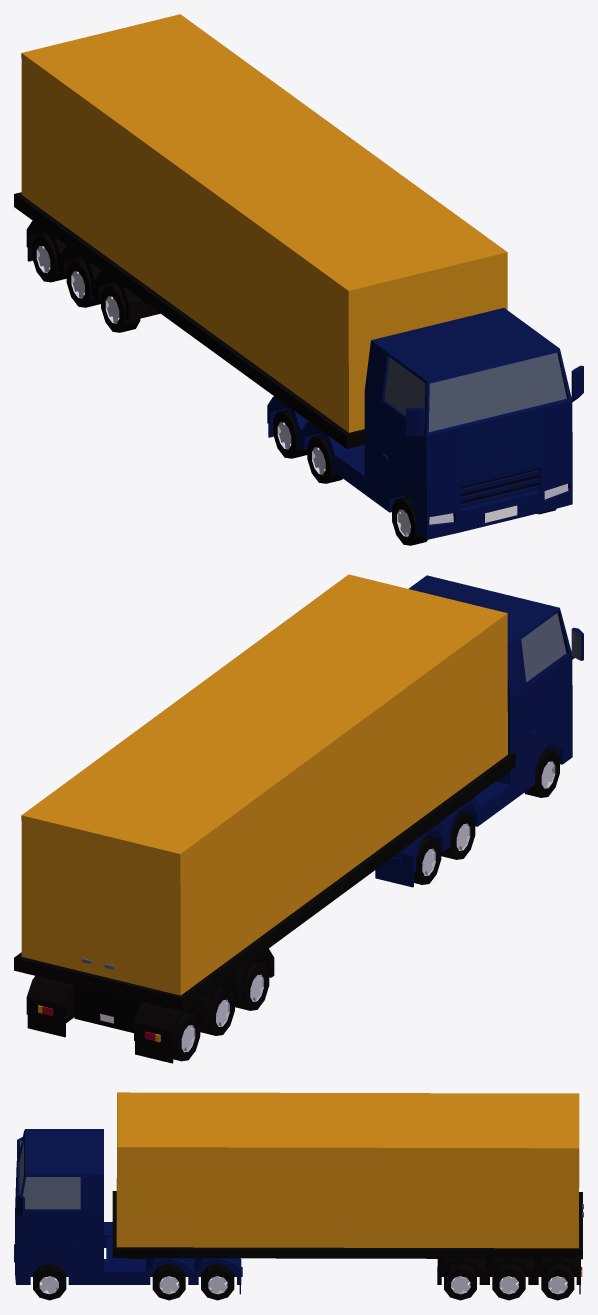
File: firetruck-ladder.glb
The picture shows the model from 3 angles, top to bottom: view 1: azimuth 30°, elevation 25°; view 2: azimuth 150°, elevation 25°; view 3: azimuth 270°, elevation 25°; orthographic projection. The views are drawn at different scales.
Parts seen in each view (by area): view 1: Truck with trailer, Truck with trailer wheel rear right 3, Truck with trailer wheel rear right 4, Truck with trailer wheel rear right 5, Truck with trailer wheel front right, Truck with trailer wheel rear right 2, Truck with trailer wheel rear right; view 2: Truck with trailer, Truck with trailer wheel rear right, Truck with trailer wheel rear right 3, Truck with trailer wheel rear right 4, Truck with trailer wheel front right, Truck with trailer wheel rear right 5, Truck with trailer wheel rear right 2; view 3: Truck with trailer, Truck with trailer wheel rear left 2, Truck with trailer wheel front left, Truck with trailer wheel rear left 4, Truck with trailer wheel rear left, Truck with trailer wheel rear left 5, Truck with trailer wheel rear left 3.
Boxes of the visible parts, x1,y1,x2,y2 form: Truck with trailer: (14, 14, 583, 539); Truck with trailer wheel rear right 3: (101, 283, 140, 332); Truck with trailer wheel rear right 4: (66, 258, 100, 307); Truck with trailer wheel rear right 5: (32, 233, 66, 282); Truck with trailer wheel front right: (392, 496, 427, 545); Truck with trailer wheel rear right 2: (273, 409, 307, 458); Truck with trailer wheel rear right: (307, 434, 342, 483); Truck with trailer: (14, 574, 583, 1063); Truck with trailer wheel rear right: (441, 810, 475, 859); Truck with trailer wheel rear right 3: (235, 961, 269, 1010); Truck with trailer wheel rear right 4: (200, 986, 234, 1035); Truck with trailer wheel front right: (524, 748, 559, 797); Truck with trailer wheel rear right 5: (173, 1012, 200, 1061); Truck with trailer wheel rear right 2: (414, 835, 441, 884); Truck with trailer: (14, 1092, 583, 1294); Truck with trailer wheel rear left 2: (201, 1263, 234, 1300); Truck with trailer wheel front left: (33, 1263, 66, 1300); Truck with trailer wheel rear left 4: (492, 1263, 525, 1300); Truck with trailer wheel rear left: (152, 1263, 185, 1300); Truck with trailer wheel rear left 5: (541, 1263, 574, 1300); Truck with trailer wheel rear left 3: (444, 1263, 476, 1300).
Bounding box in the file's own units: 3.41 × 4.05 × 13.42.
